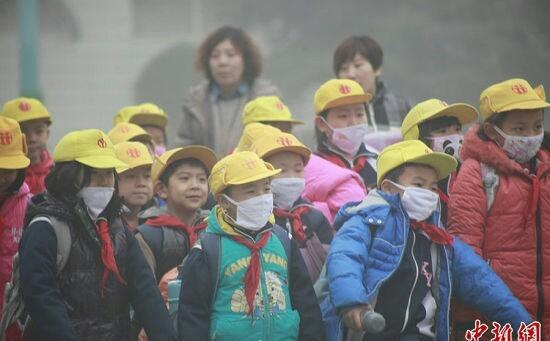NONE: (174, 168, 211, 211), (15, 124, 52, 158), (337, 59, 371, 93), (122, 172, 155, 205), (134, 133, 167, 165), (211, 52, 243, 83), (1, 169, 21, 196)
OK: (224, 178, 276, 230), (394, 172, 439, 219), (499, 116, 544, 162), (265, 159, 306, 204), (429, 125, 469, 165)
WRONG: (74, 166, 119, 217), (328, 103, 368, 151)
